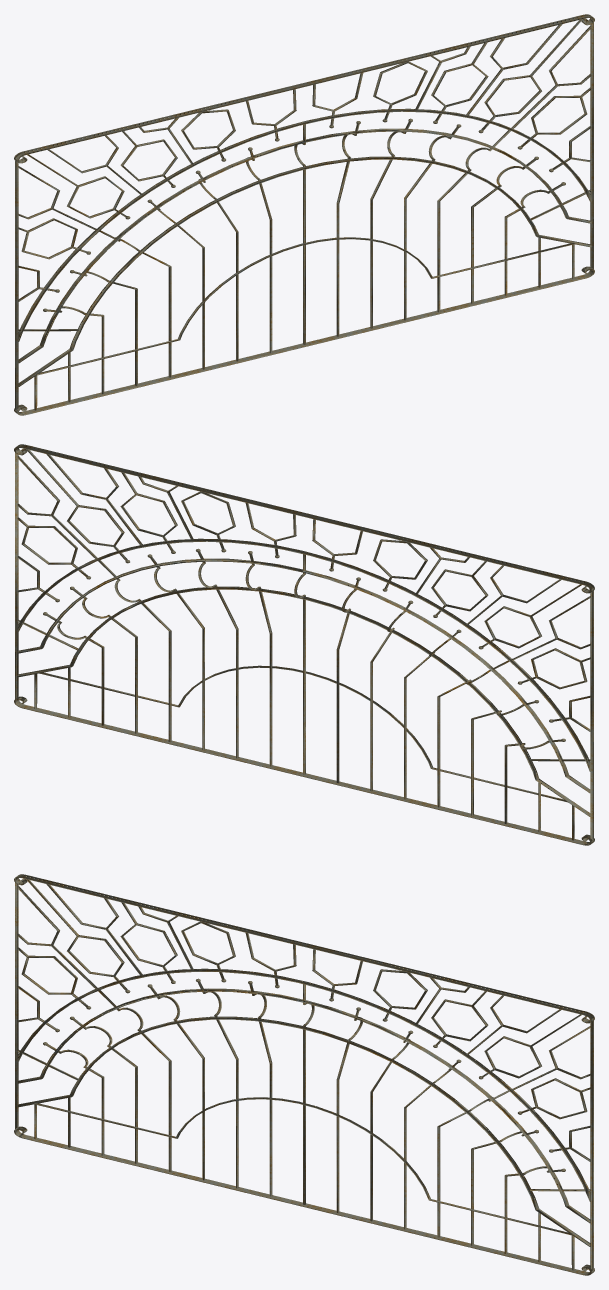
The model's file is WindowGrille_01.fbx.
The picture shows the model from 3 angles, top to bottom: view 1: azimuth 30°, elevation 25°; view 2: azimuth 150°, elevation 25°; view 3: azimuth 330°, elevation 25°; orthographic projection.
Parts seen in each view (by area): view 1: ID3_29.003; view 2: ID3_29.003; view 3: ID3_29.003.
Boxes of the visible parts, x1,y1,x2,y2 form: ID3_29.003: [14, 14, 594, 415]; ID3_29.003: [14, 444, 594, 845]; ID3_29.003: [14, 874, 594, 1275].
Size of the model in its own units: 200 by 86.5 by 6.55.
